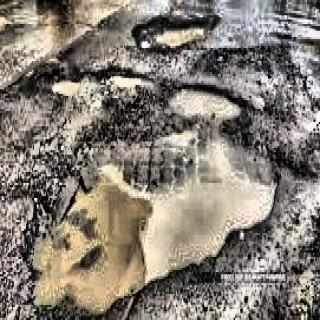pothole: (19, 132, 294, 318), (166, 71, 257, 140), (47, 65, 162, 119), (131, 5, 223, 68)
